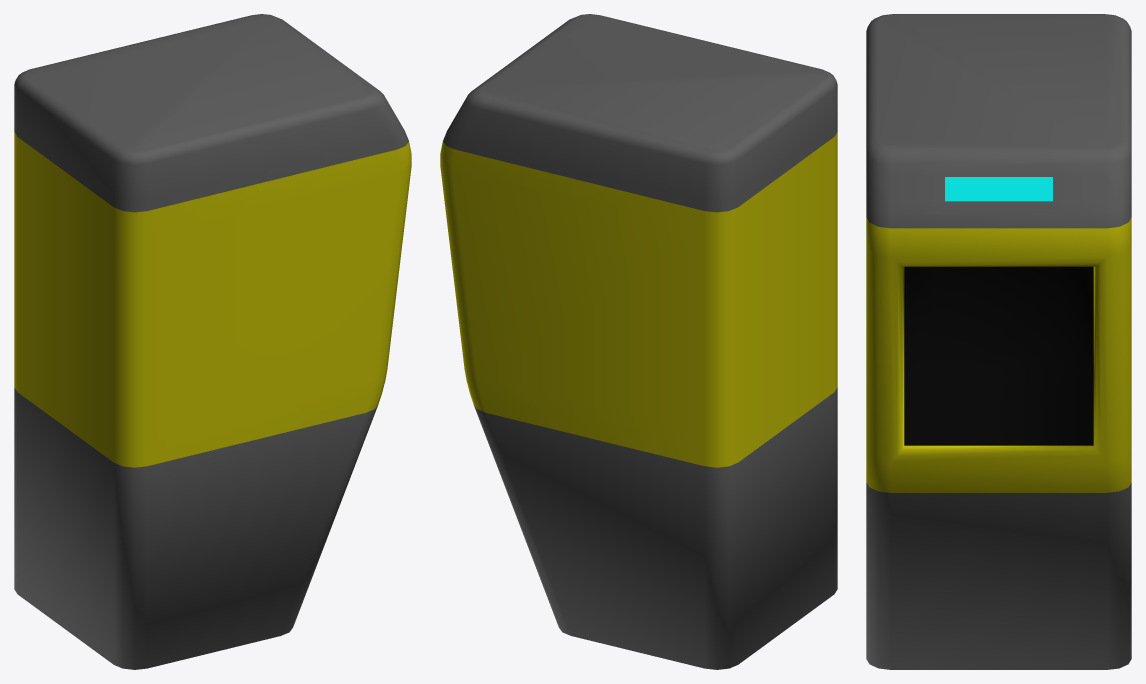
The model's file is Ponto de coleta.fbx.
The picture shows the model from 3 angles, left to right: view 1: azimuth 30°, elevation 25°; view 2: azimuth 150°, elevation 25°; view 3: azimuth 270°, elevation 25°; orthographic projection. The views are drawn at different scales.
Parts seen in each view (by area): view 1: Cube; view 2: Cube; view 3: Cube.
Part boxes in pixels (x1=…): Cube: x1=14, y1=14, x2=411, y2=669; Cube: x1=440, y1=14, x2=837, y2=669; Cube: x1=866, y1=14, x2=1131, y2=669.
Bounding box in the file's own units: 281 × 470 × 200.
